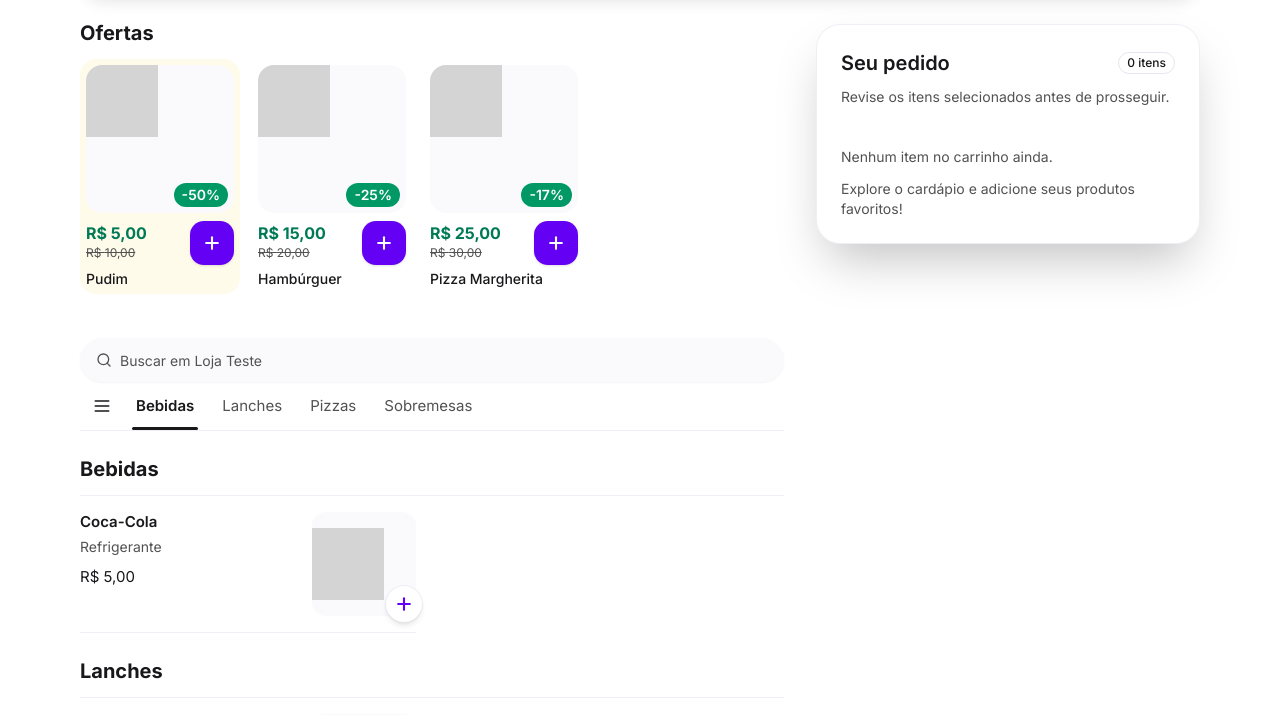
Scenario: PublicStorePage - Busca › busca pela descrição e mostra mensagem quando nada combina
(page scrolled)
Type "artesanal" into the search field labelled "Buscar em Loja Teste". click: [432, 360]
box: [80,338,784,382]
(page scrolled)
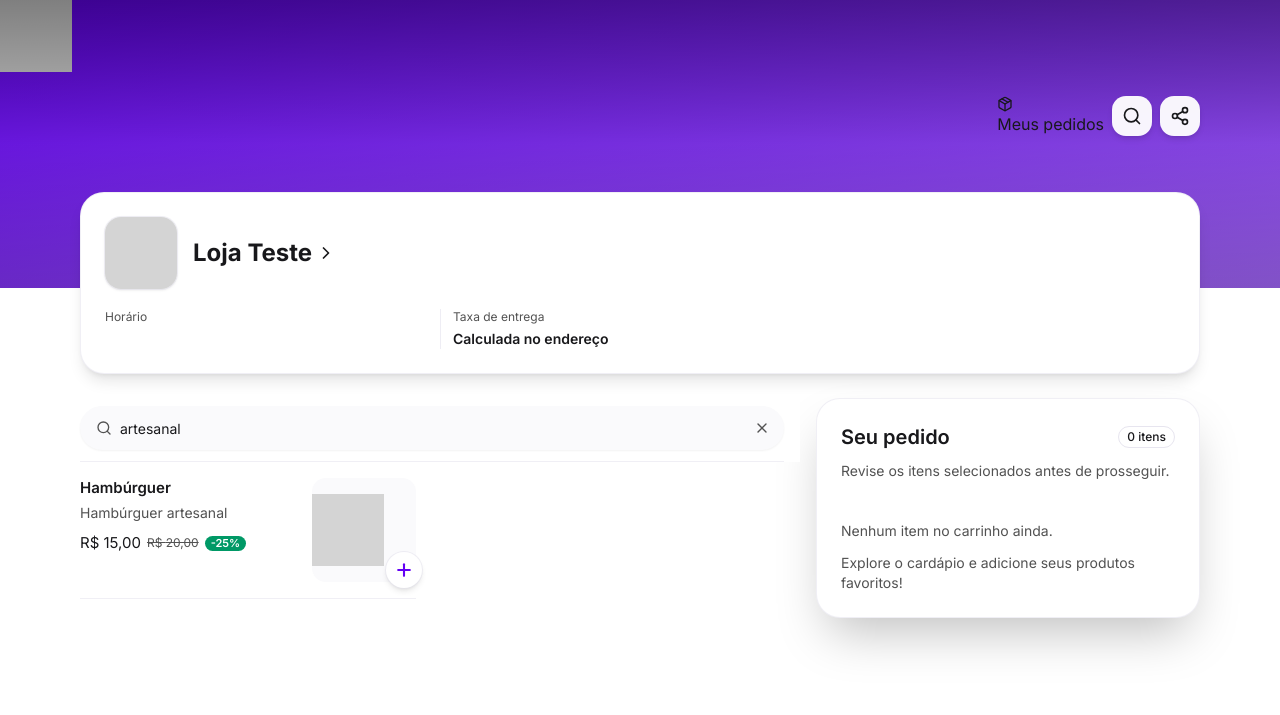
Expected: the button with aria-label "Ver detalhes de Hambúrguer" is shown, [80,478,300,554]
Replace the text in the search field named "Buscar em Loja Teste" with "xyz". click: [432, 428]
box: [80,406,784,450]
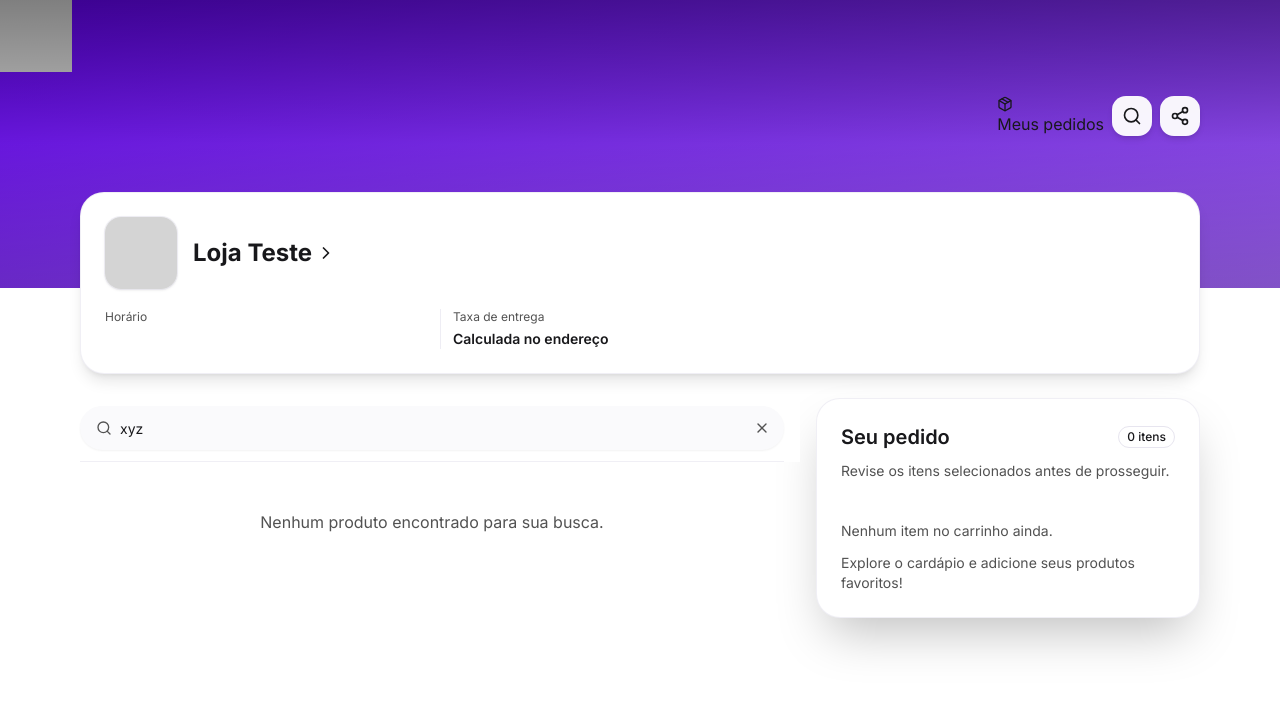
Expected: the text "Nenhum produto encontrado para sua busca." is shown, [260,512,604,532]
